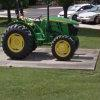Tractor: (6, 4, 86, 72)
